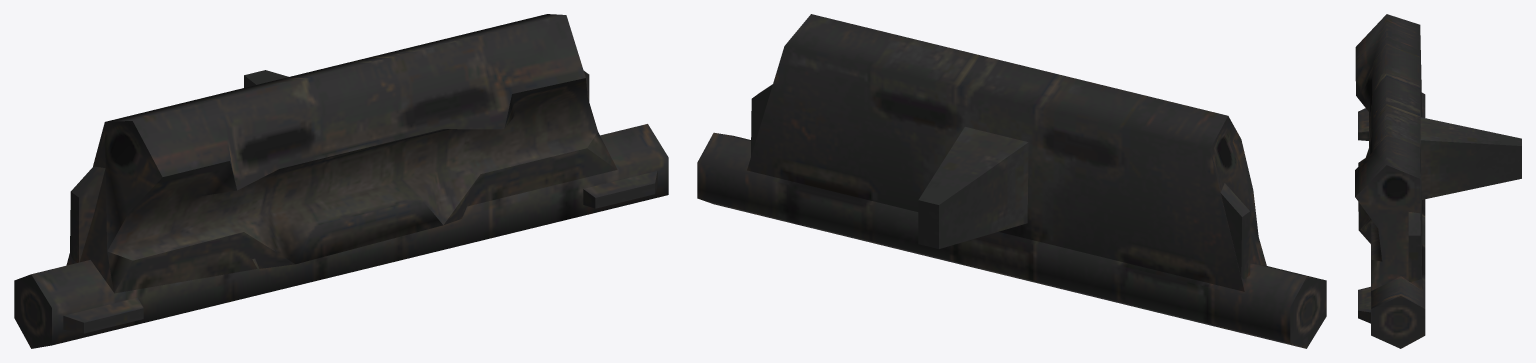
3 views of the same model, side by side, from view 1: azimuth 30°, elevation 25°; view 2: azimuth 150°, elevation 25°; view 3: azimuth 270°, elevation 25° (orthographic). The views are drawn at different scales.
Visible parts, largest first — view 1: set_0_group_0; view 2: set_0_group_0; view 3: set_0_group_0.
Boxes of the visible parts, left/top/right/bottom form: set_0_group_0: left=14, top=14, right=668, bottom=348; set_0_group_0: left=697, top=14, right=1326, bottom=348; set_0_group_0: left=1355, top=14, right=1521, bottom=348.
Bounding box in the file's own units: 0.58 × 0.1915 × 0.1903.
Materials: 1 (1 with a texture image).
